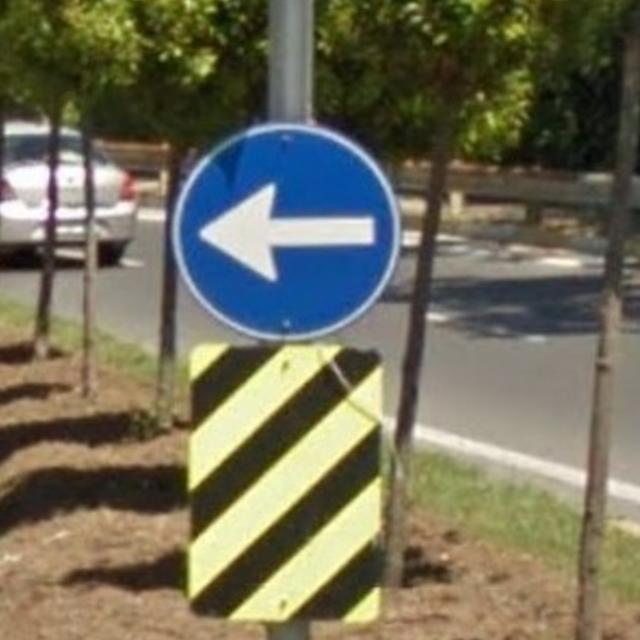Turn Left: (166, 109, 398, 350)
